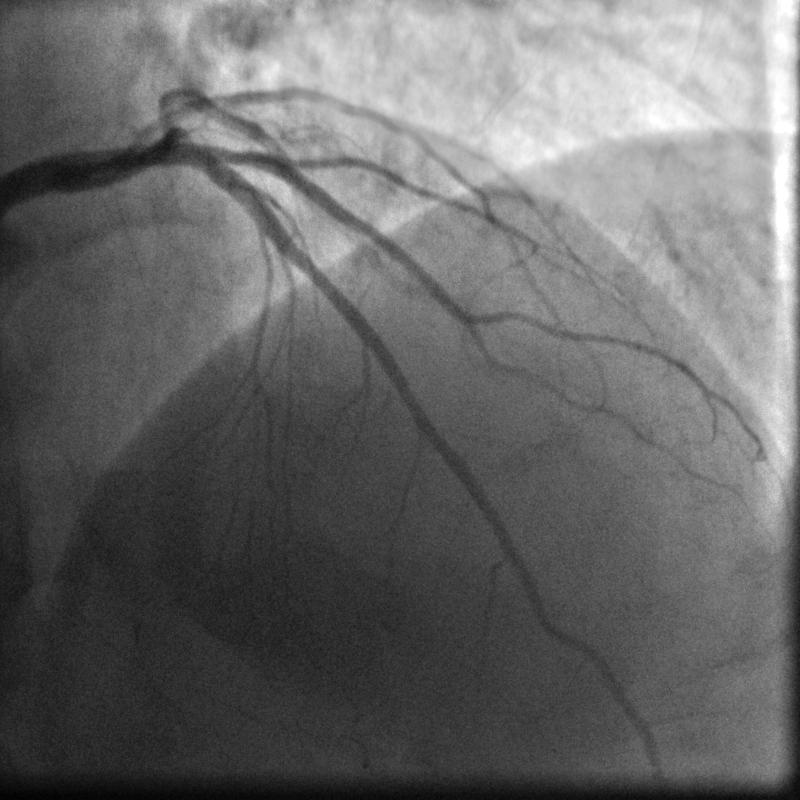Stenosis: (407, 377, 441, 455)
